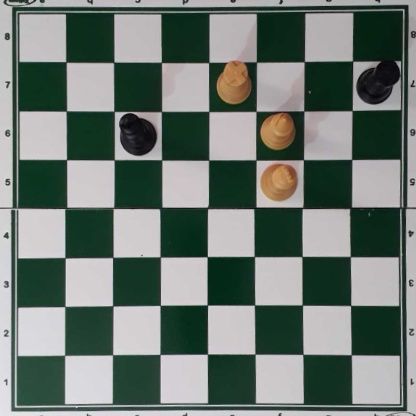black-king: (116, 113, 157, 155)
black-rook: (355, 59, 401, 103)
white-bishop: (260, 111, 295, 150)
white-king: (258, 162, 297, 202)
white-rook: (216, 61, 251, 102)
